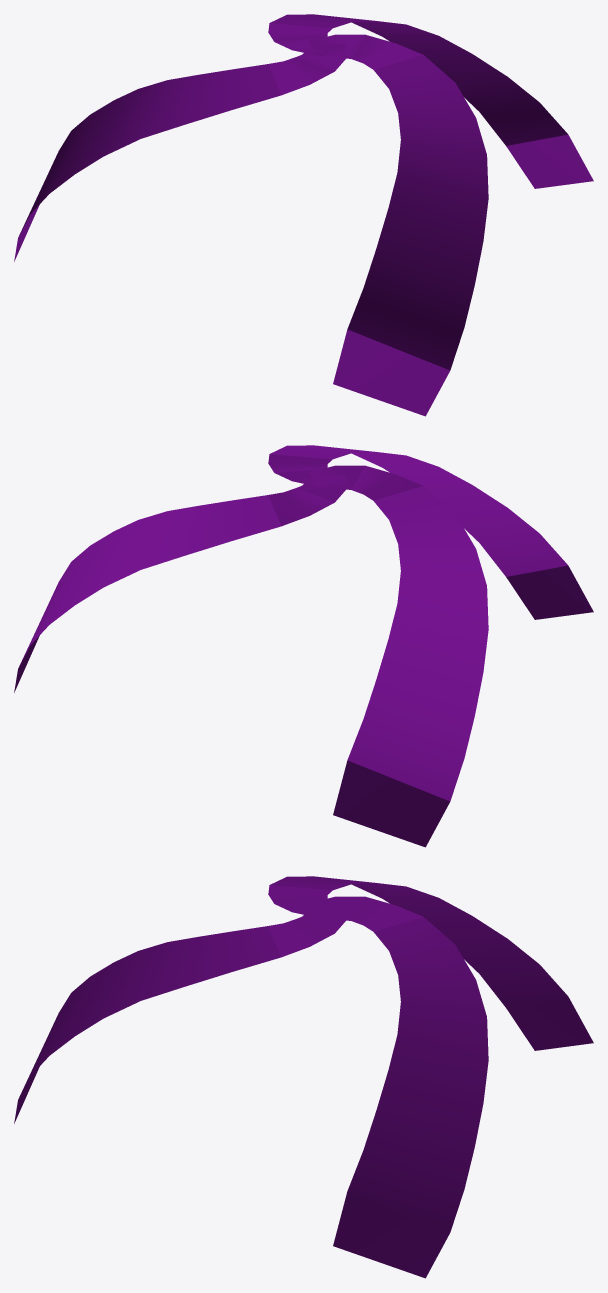
Rendered from gelaimisi_mod4.FBX.
3 renders of one model, top to bottom at view 1: azimuth 30°, elevation 25°; view 2: azimuth 150°, elevation 25°; view 3: azimuth 270°, elevation 25°, orthographic.
Parts seen in each view (by area): view 1: 2nejskl1_Plane004; view 2: 2nejskl1_Plane004; view 3: 2nejskl1_Plane004.
Boxes of the visible parts, bbox=[...] form: 2nejskl1_Plane004: bbox=[14, 14, 593, 416]; 2nejskl1_Plane004: bbox=[14, 445, 593, 847]; 2nejskl1_Plane004: bbox=[14, 876, 593, 1278].
Bounding box in the file's own units: 368 × 173 × 377.
